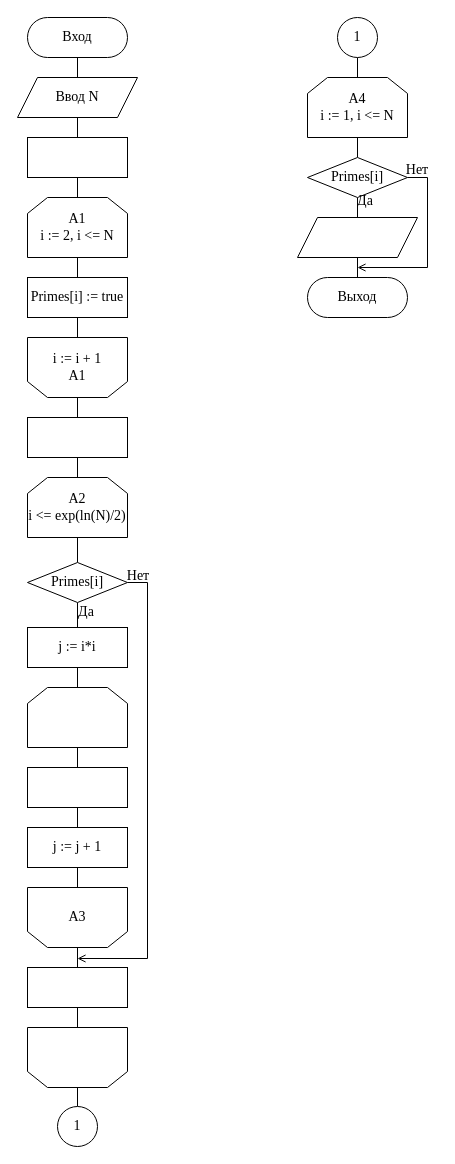
Image size: 455x1164. Some labels were removed from this diagram. Here are the shapes that lost their labels. From the top down, the centre of each, then its label:
the point at 77,157: Primes[1] := false
the point at 357,237: Вывод i
the point at 77,437: i := 2
the point at 77,717: A3 j <= N
the point at 77,787: Primes[i] := false
the point at 77,987: i := i + 1
the point at 77,1057: A2
